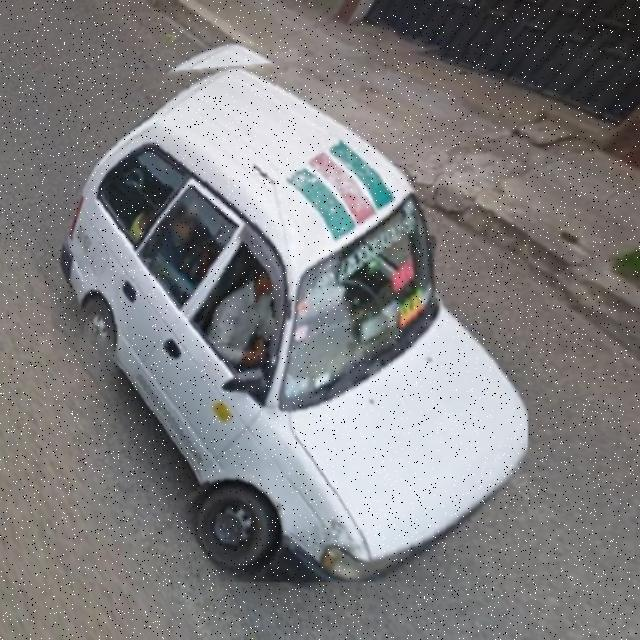car: (47, 43, 529, 583)
